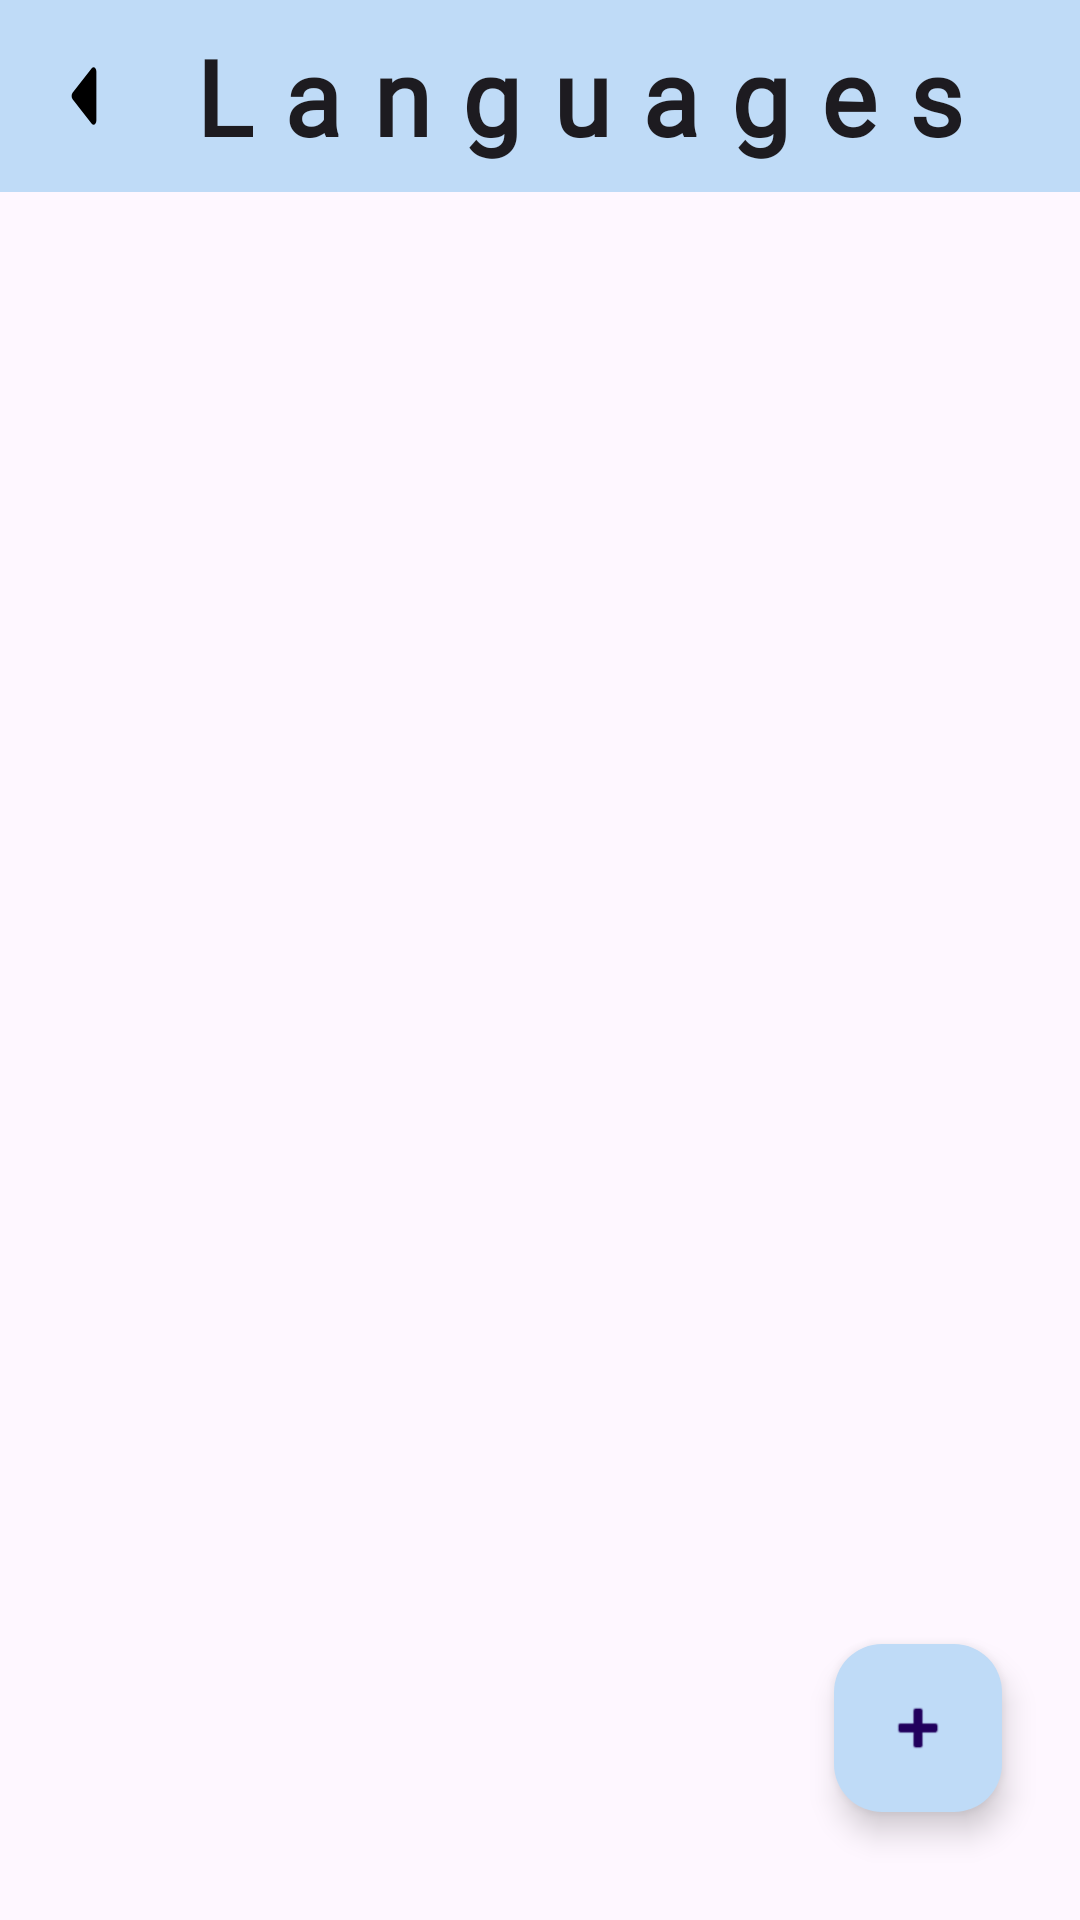

Where to tap for icons on this 1080x1920 app screen, as point (x, y):
Add Language: point (918, 1728)
